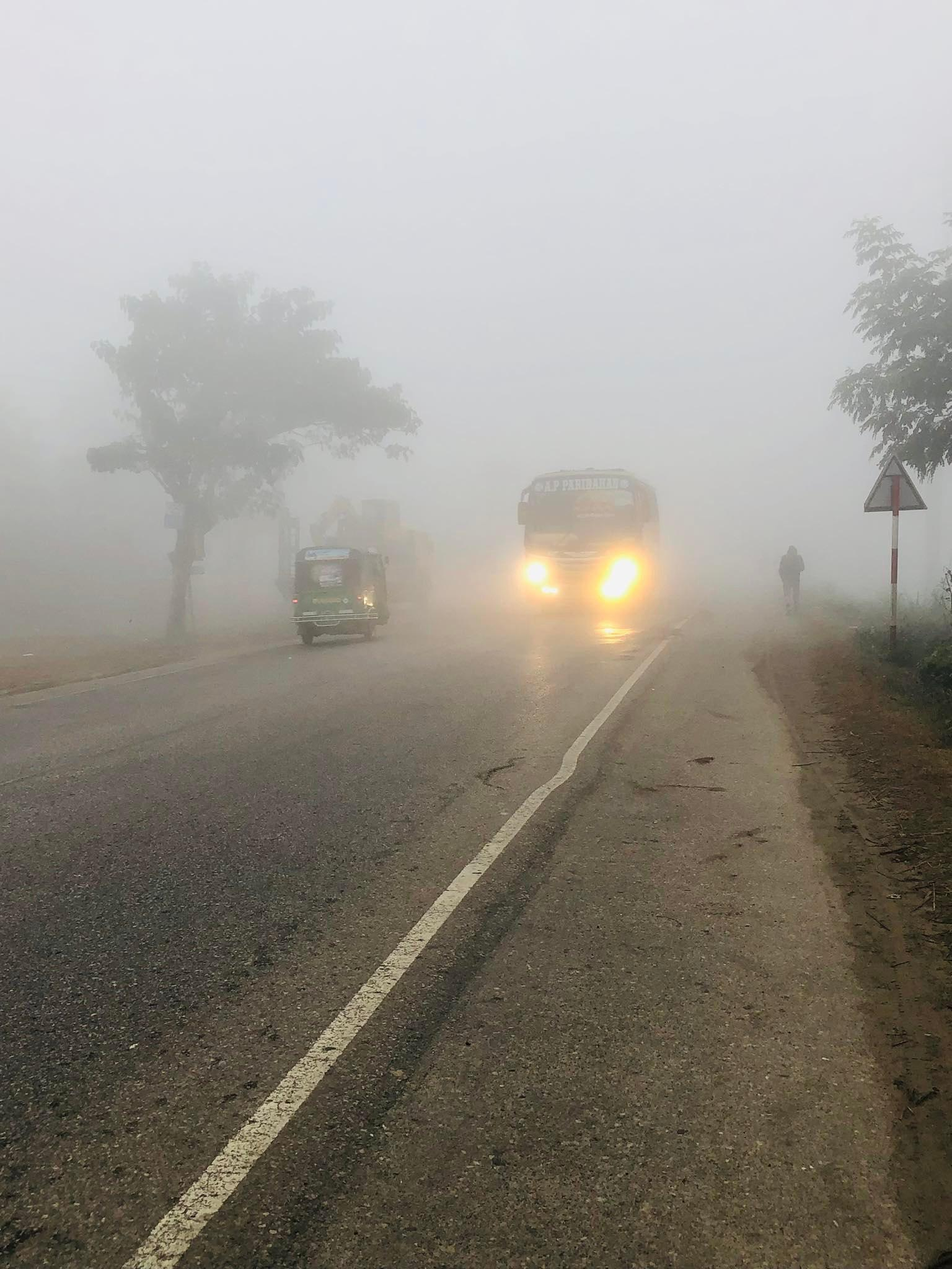Bus: (503, 452, 680, 629)
